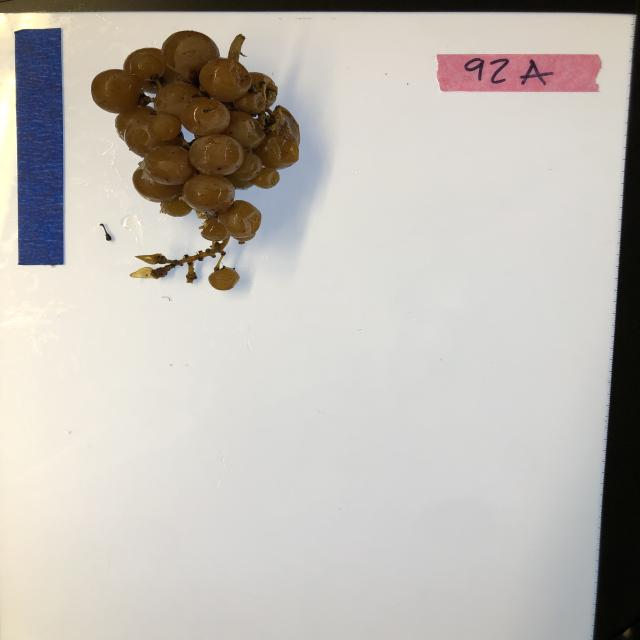grape_cluster: (88, 29, 308, 293)
index: (436, 53, 604, 93)
measure_label: (13, 27, 67, 268)
